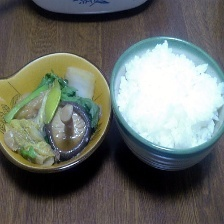rice: (115, 42, 224, 153)
